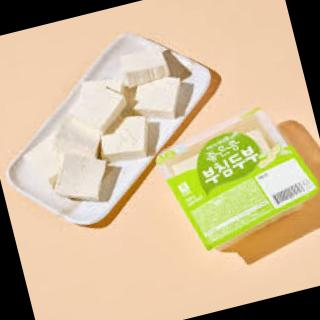Tahu: (1, 36, 201, 219)
